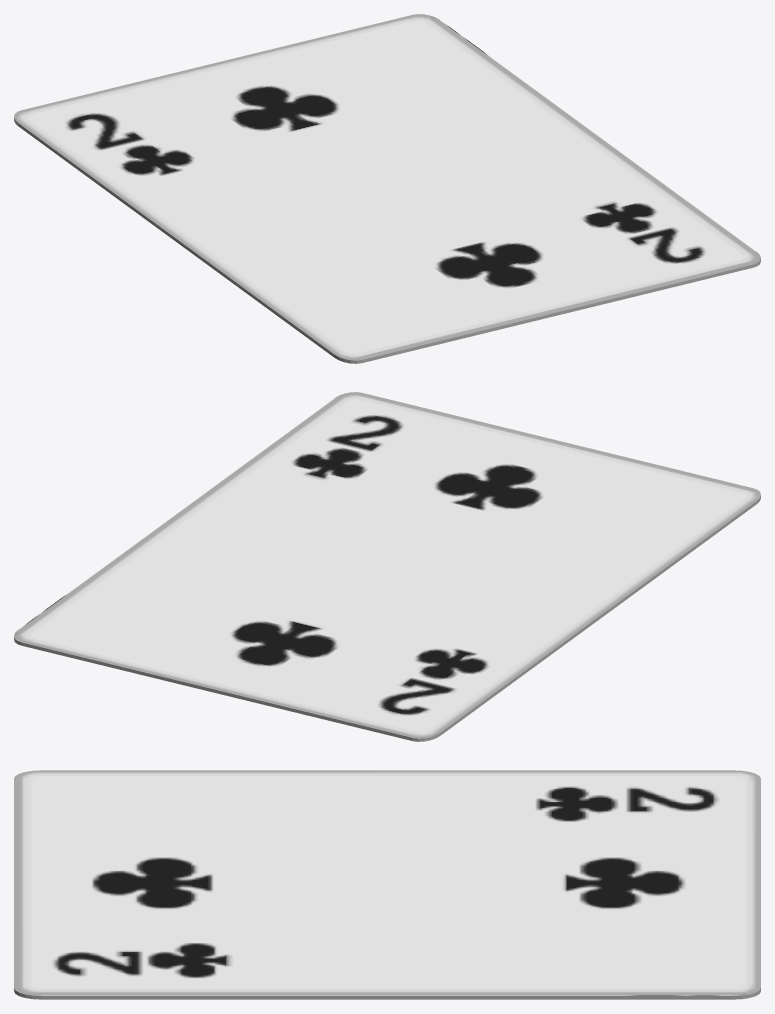
File: Card.fbx
3 views of the same model, one above another, from view 1: azimuth 30°, elevation 25°; view 2: azimuth 150°, elevation 25°; view 3: azimuth 270°, elevation 25° (orthographic). The views are drawn at different scales.
Visible parts, largest first — view 1: Cube; view 2: Cube; view 3: Cube.
Part boxes in pixels (x1,y1,x2,y2): Cube: (14,14,760,363); Cube: (14,392,760,741); Cube: (14,770,760,999).
Bounding box in the file's own units: 62.8 × 0.5 × 87.87.
